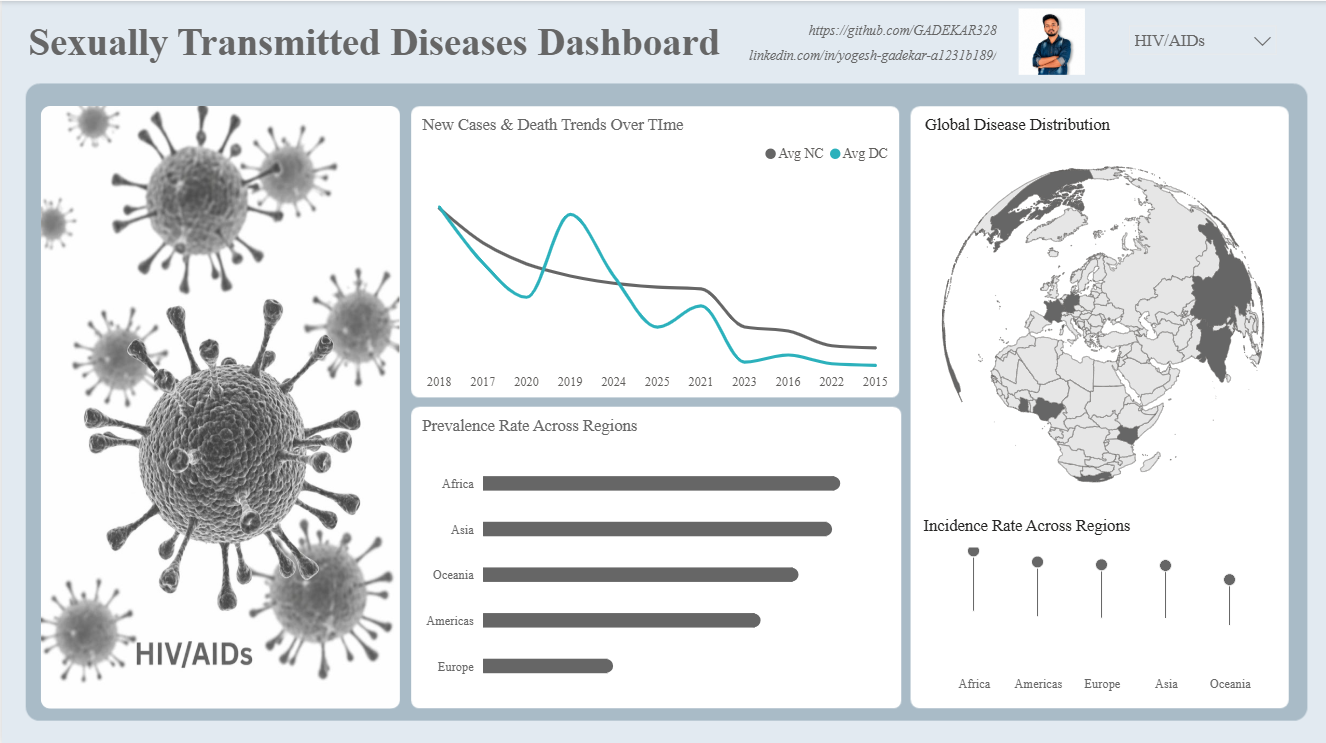

The page's visual inventory and layout, read from the dashboard file:
{"tool":"powerbi","page":{"name":"Page 1","canvas":[1280,720],"ordinal":0},"visuals":[{"type":"slicer","fields":{"Values":["Health Image Dataset.Disease"]},"box":[1077.4,13.3,162.9,55.5],"z":0},{"type":"image","box":[37.4,101.3,346.2,581.5],"z":1000},{"type":"lineChart","title":"New Cases & Death Trends Over TIme","fields":{"Category":["Health Dataset.Year"],"Y":["Avg(Health Dataset.New_Cases)"],"Y2":["Avg(Health Dataset.Deaths)"]},"box":[400.5,109.8,464.5,272.7],"z":2000},{"type":"clusteredBarChart","title":"Prevalence Rate Across Regions","fields":{"Category":["Health Dataset.Region"],"Y":["Avg(Health Dataset.Prevalence_Rate)"]},"box":[400.5,400.5,464.5,282.3],"z":3000},{"type":"shapeMap","title":"Global Disease Distribution","fields":{"Category":["Health Dataset.Country"]},"box":[885.5,109.8,354.7,387.3],"z":3001},{"type":"textbox","box":[20.5,13.3,705.8,55.5],"z":3002},{"type":"clusteredColumnChart","title":"Incidence Rate Across Regions","fields":{"Category":["Health Dataset.Region"],"Y":["Avg(Health Dataset.Incidence_Rate)"]},"box":[884.3,497.1,355.9,177.3],"z":3003},{"type":"image","box":[974.8,7.2,77.2,63.9],"z":3004},{"type":"textbox","box":[714.2,37.4,250.9,31.4],"z":3005},{"type":"textbox","box":[766.1,13.3,199.1,31.4],"z":3006}]}

Visuals, with their boxes in screenshot pixels (x1, y1, x2, y2), scaled from the page's 1280x720 canvas onto the 1326x743 screenshot:
slicer - Health Image Dataset.Disease: detection(1116, 14, 1285, 71)
image: detection(39, 105, 397, 705)
"New Cases & Death Trends Over TIme" lineChart: detection(415, 113, 896, 395)
"Prevalence Rate Across Regions" clusteredBarChart: detection(415, 413, 896, 705)
"Global Disease Distribution" shapeMap: detection(917, 113, 1285, 513)
textbox: detection(21, 14, 752, 71)
"Incidence Rate Across Regions" clusteredColumnChart: detection(916, 513, 1285, 696)
image: detection(1010, 7, 1090, 73)
textbox: detection(740, 39, 1000, 71)
textbox: detection(794, 14, 1000, 46)
